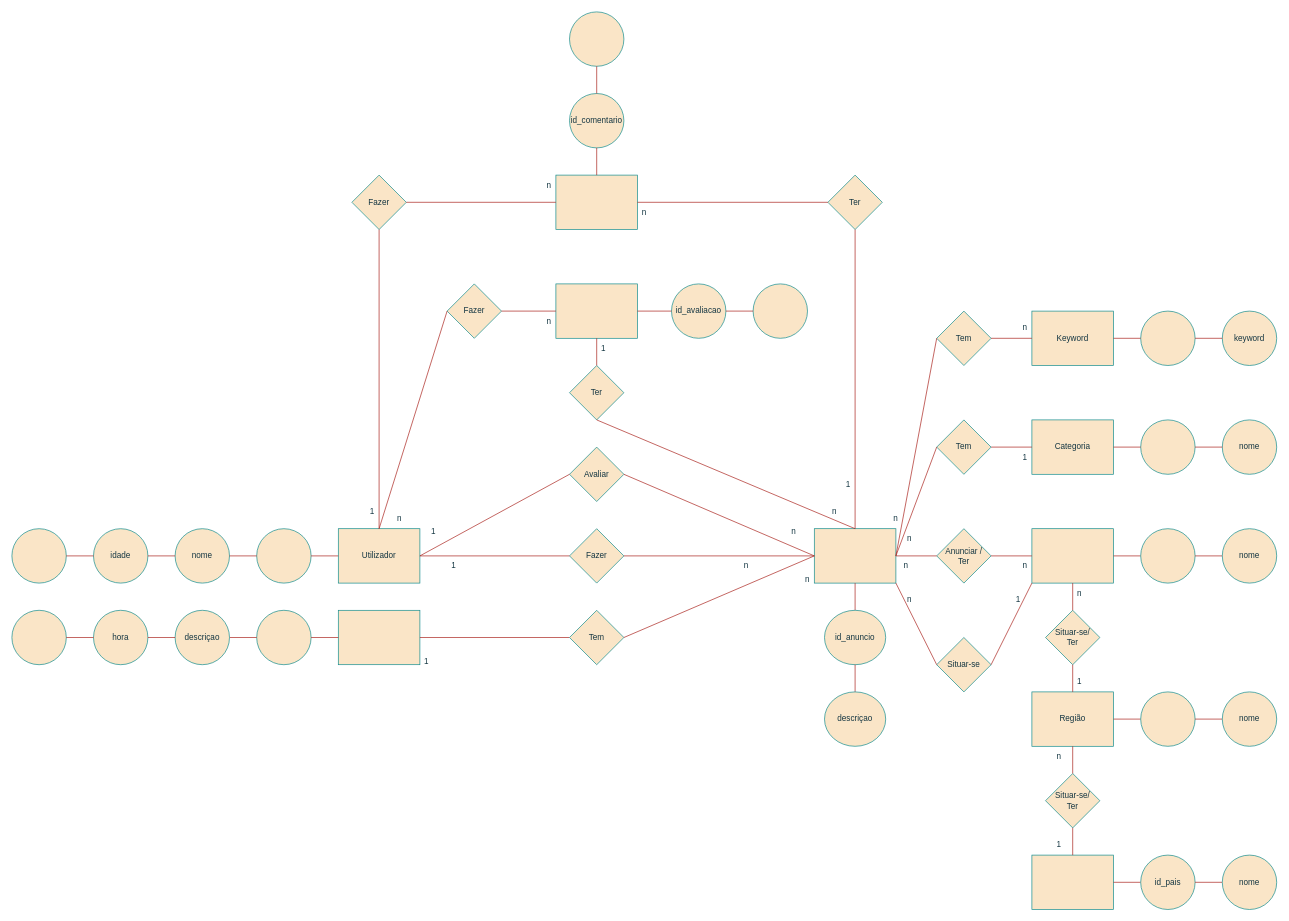
Image size: 1289x921. Some labels were removed from this diagram. Each missing label, with the centre of its shape:
"Anuncio" belongs at [855,555].
"avaliacao" belongs at [780,310].
"Avaliação" belongs at [596,310].
"comentario" belongs at [596,38].
"Comentário" belongs at [596,202].
"data" belongs at [38,637].
"email" belongs at [38,555].
"id_categoria" belongs at [1167,446].
"id_keyword" belongs at [1167,338].
"id_localidade" belongs at [1167,555].
"id_regiao" belongs at [1167,718].
"id_status" belongs at [283,637].
"id_user" belongs at [283,555].
"Localidade" belongs at [1072,555].
"País" belongs at [1072,882].
"Status" belongs at [379,637].
